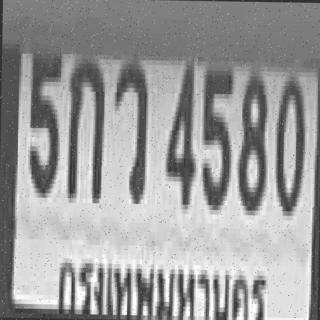A01: (66, 54, 103, 198)
A37: (111, 59, 147, 199)
N00: (274, 72, 304, 211)
N04: (164, 56, 194, 204)
N05: (27, 44, 60, 193), (200, 61, 233, 205)
N08: (237, 68, 266, 208)
P04: (52, 241, 276, 320)
